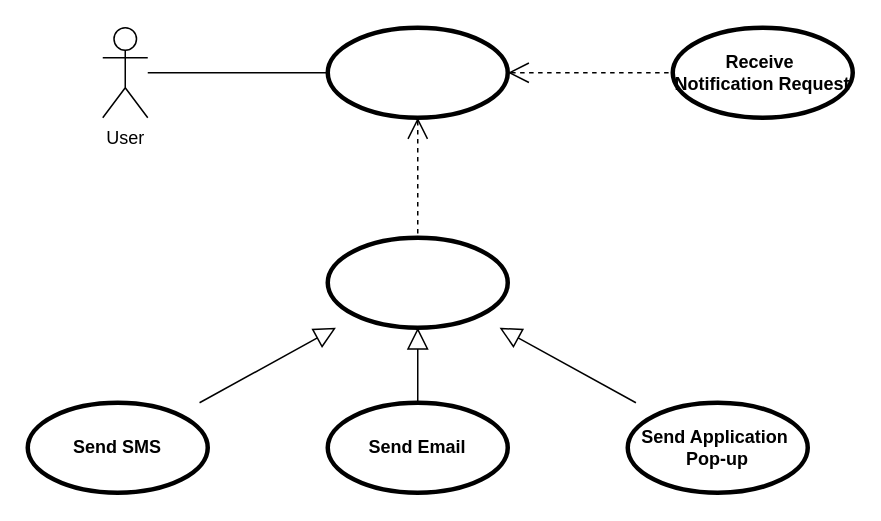
Some shapes in this 881 by 521 pixel diagram are drawn without their labels. The centre of each missing label's shape, as x and y in pixels:
"Notifications Management" goes at point 417,72.
"Send Notification" goes at point 417,282.
